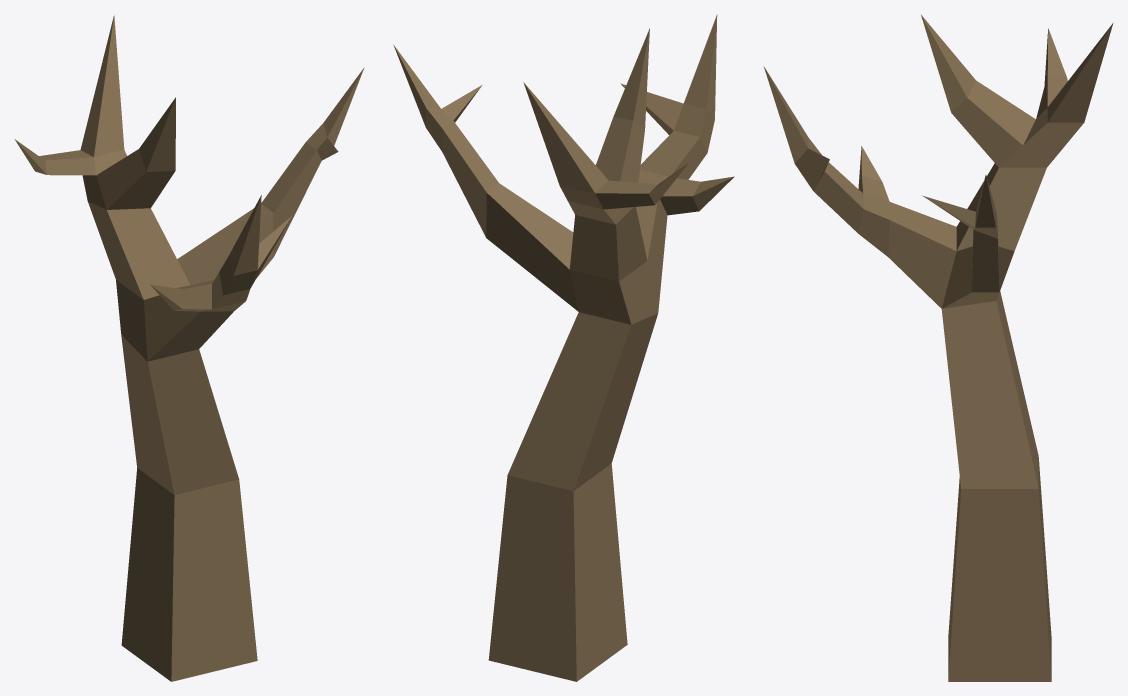
File: DryTree.fbx
3 views of the same model, side by side, from view 1: azimuth 30°, elevation 25°; view 2: azimuth 150°, elevation 25°; view 3: azimuth 270°, elevation 25° (orthographic). The views are drawn at different scales.
Visible parts, largest first — view 1: DryTree; view 2: DryTree; view 3: DryTree.
Boxes of the visible parts, x1,y1,x2,y2 form: DryTree: (14, 15, 364, 681); DryTree: (393, 14, 734, 681); DryTree: (763, 15, 1113, 681).
Bounding box in the file's own units: 4.95 × 8.92 × 4.51.
